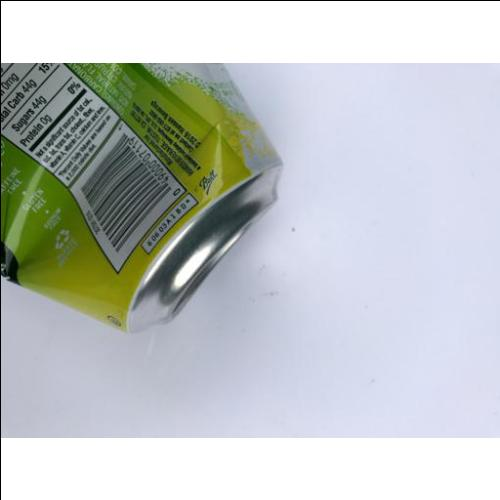metal: (2, 66, 281, 331)
